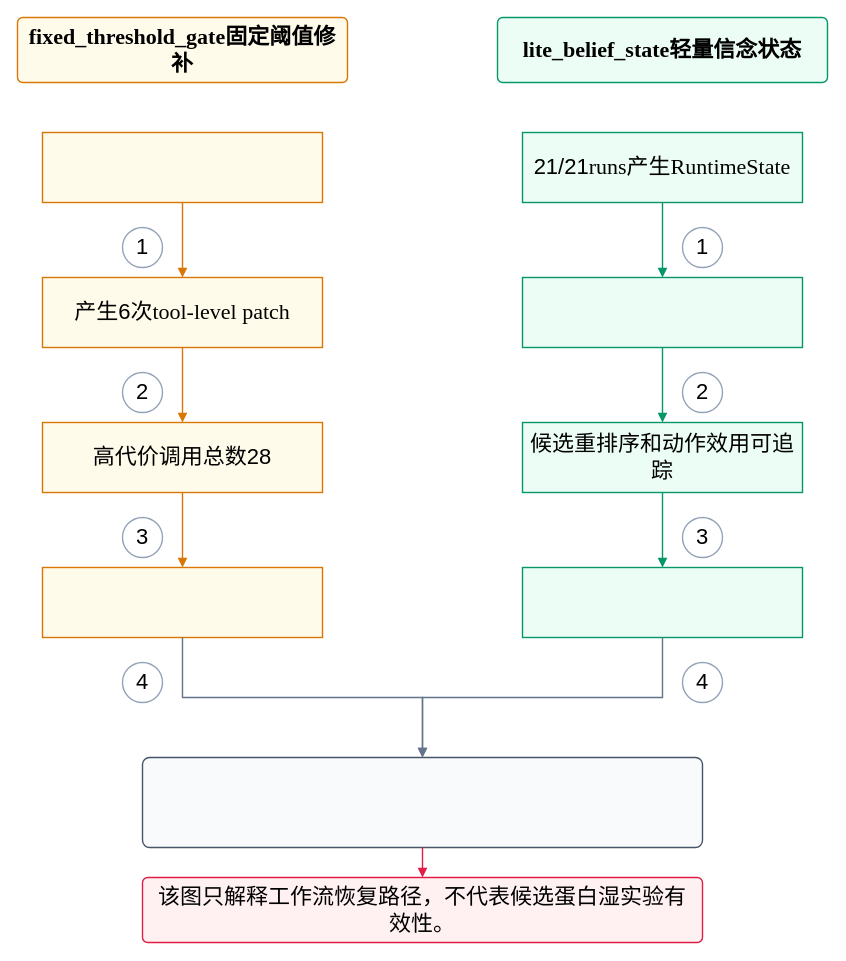
The diagram is 846 pixels wide and 961 high, and some of its shapes have lost their labels. The centre of each missing label's shape, as x and y in pixels:
"仍可能受任务边界限制失败" goes at (662,602).
"修补循环耗尽时失败" goes at (182,602).
"对比结论 固定阈值门控暴露额外修补成本； Lite belief-state 主要提供运行时状态和动作效用解释。" goes at (422,802).
"观测预算压力与证据充分性" goes at (662,312).
"阈值触发局部修补" goes at (182,167).
